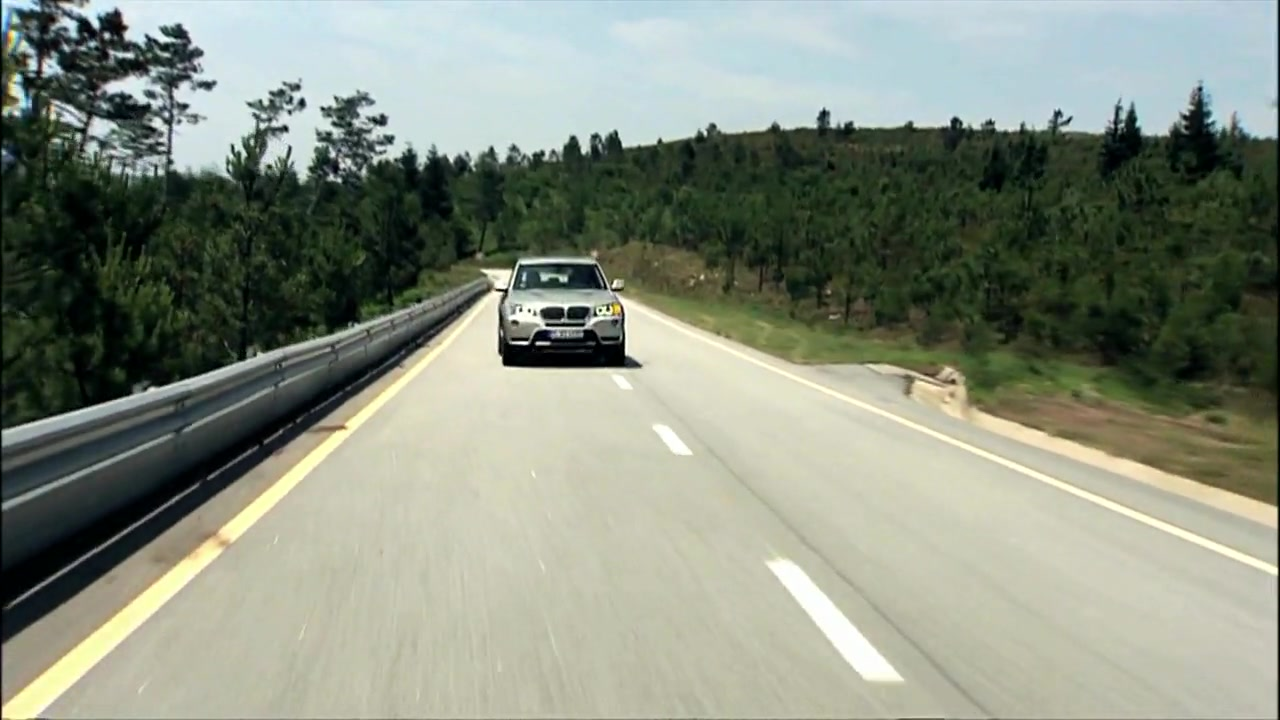car: (490, 254, 632, 360)
